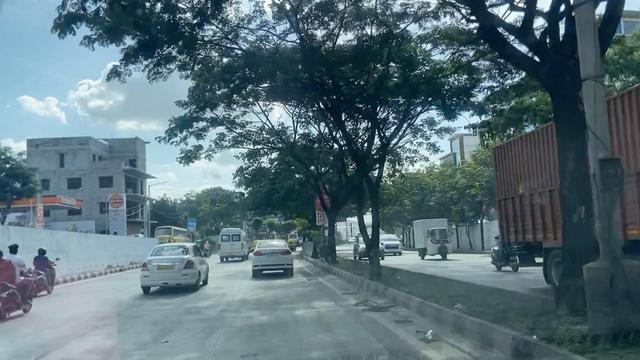HMV: (223, 225, 241, 260)
LMV: (142, 243, 203, 289), (25, 248, 64, 293), (252, 239, 292, 274)
RoadDamages: (348, 288, 395, 330)
